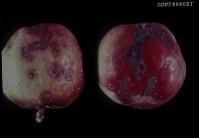rotten apple: (96, 22, 188, 111), (2, 20, 84, 112)
